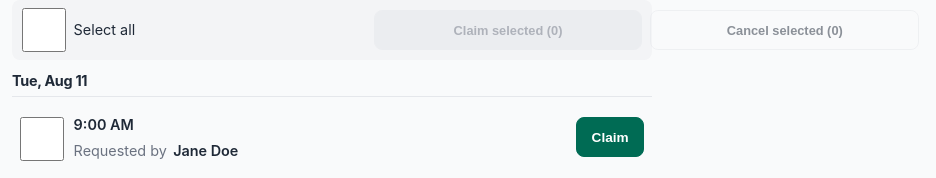
Scenario: NeedsCoverageList › bulk claim › disables the Claim selected button until at least one claimable request is checked
Expected: the button "Claim selected (0)" is disabled, [374,10,642,50]
Click the checkbox named "2026-08-11" at (42, 139), box [20,117,64,161]
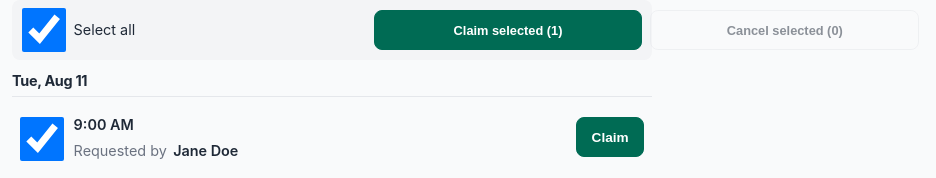
Now the button "Claim selected (1)" is enabled, box [374,10,642,50]
